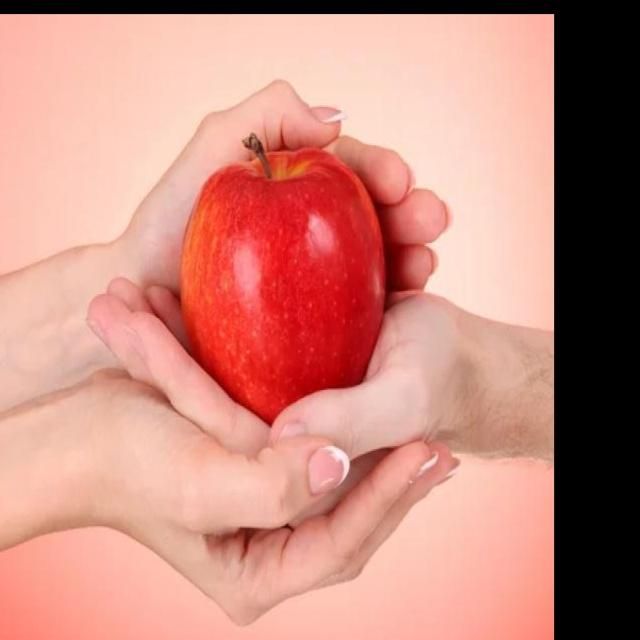red apple: (173, 147, 385, 428)
